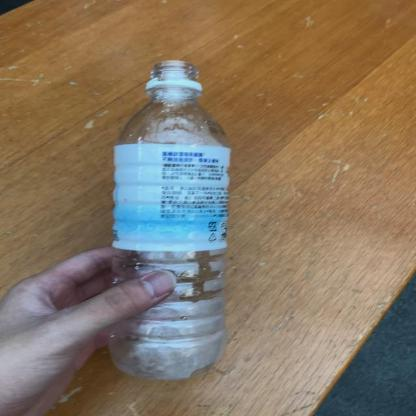Plastic Bottle: (109, 61, 231, 381)
